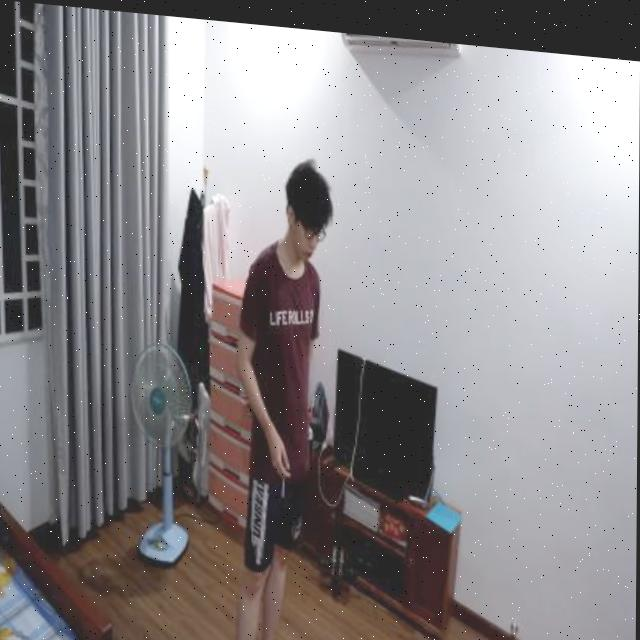cigarette: (282, 470, 286, 494)
